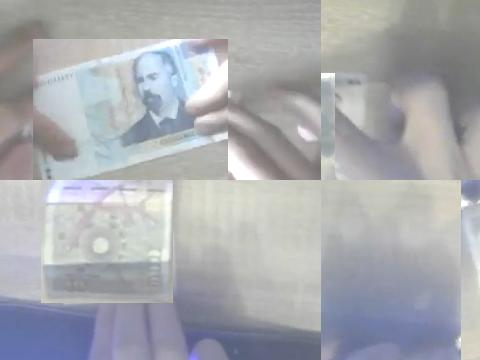10leva: (41, 180, 173, 303)
20leva: (33, 39, 228, 180)
